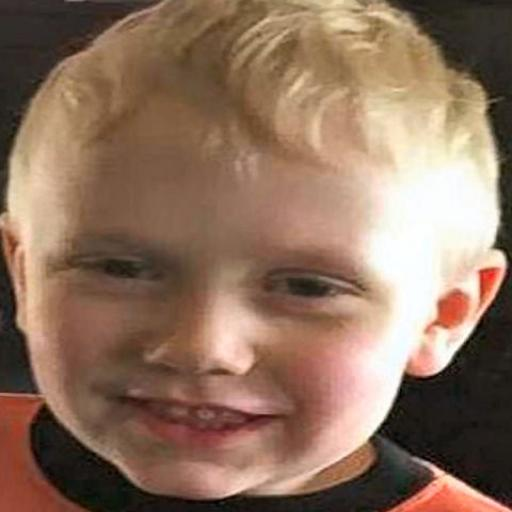Autism: (26, 17, 512, 501)
